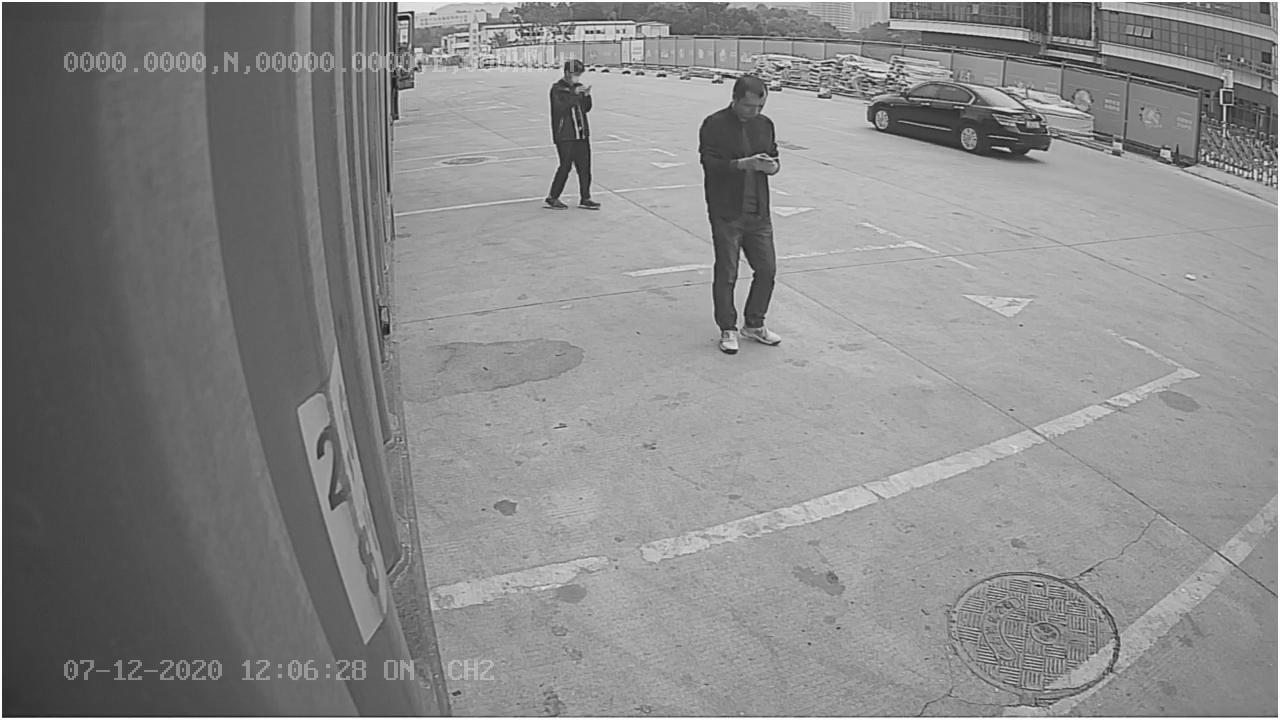person: (694, 74, 786, 354)
